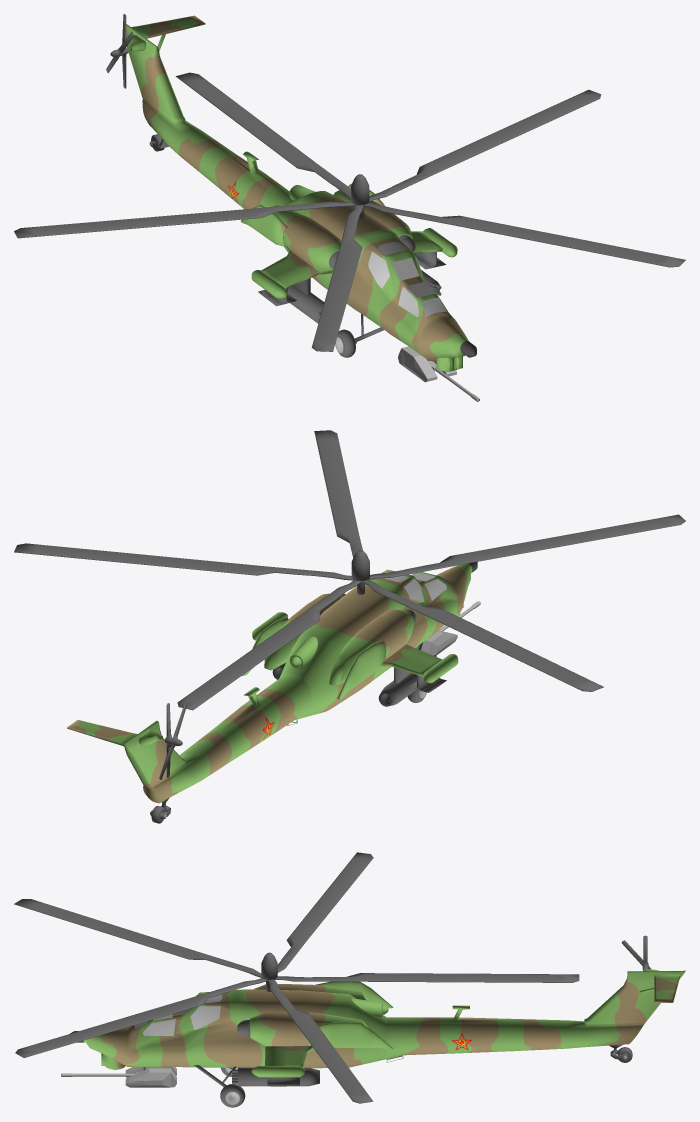
The model's file is Mi28_frac.fbx.
3 renders of one model, top to bottom at view 1: azimuth 30°, elevation 25°; view 2: azimuth 150°, elevation 25°; view 3: azimuth 270°, elevation 25°, orthographic. The views are drawn at different scales.
Visible parts, largest first — view 1: Cylinder.004, Cylinder.006; view 2: Cylinder.004, Cylinder.006, Cylinder.001; view 3: Cylinder.004, Cylinder.006, Cylinder.001.
Boxes of the visible parts, box(x1,y1,x2,y2) form: Cylinder.004: box(106, 14, 479, 401); Cylinder.006: box(14, 72, 685, 351); Cylinder.004: box(67, 562, 480, 803); Cylinder.006: box(14, 430, 685, 710); Cylinder.001: box(150, 636, 317, 823); Cylinder.004: box(61, 935, 685, 1107); Cylinder.006: box(14, 852, 579, 1103); Cylinder.001: box(351, 998, 632, 1062).
Bounding box in the file's own units: 11.77 × 3.21 × 13.33.
